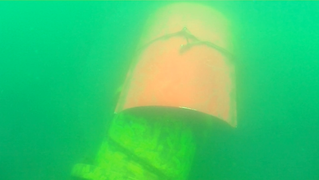leak: (121, 3, 239, 129)
pipe: (68, 107, 214, 179)
